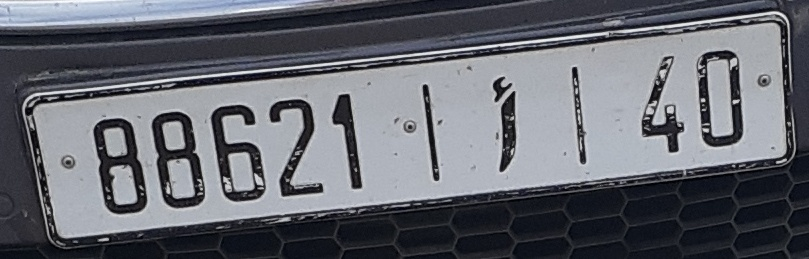0: (693, 42, 748, 157)
1: (329, 88, 373, 192)
2: (265, 91, 327, 203)
4: (629, 47, 690, 157)
6: (206, 98, 265, 207)
8: (87, 113, 152, 220), (152, 108, 208, 212)
a: (476, 67, 530, 177)
